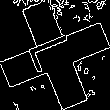L_E: (26, 31, 84, 79)
